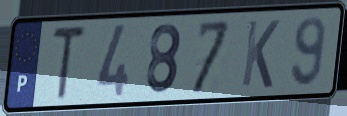4: (95, 21, 131, 101)
7: (191, 18, 233, 96)
8: (144, 22, 182, 95)
9: (288, 14, 329, 89)
K: (239, 18, 282, 91)
T: (50, 24, 89, 103)
